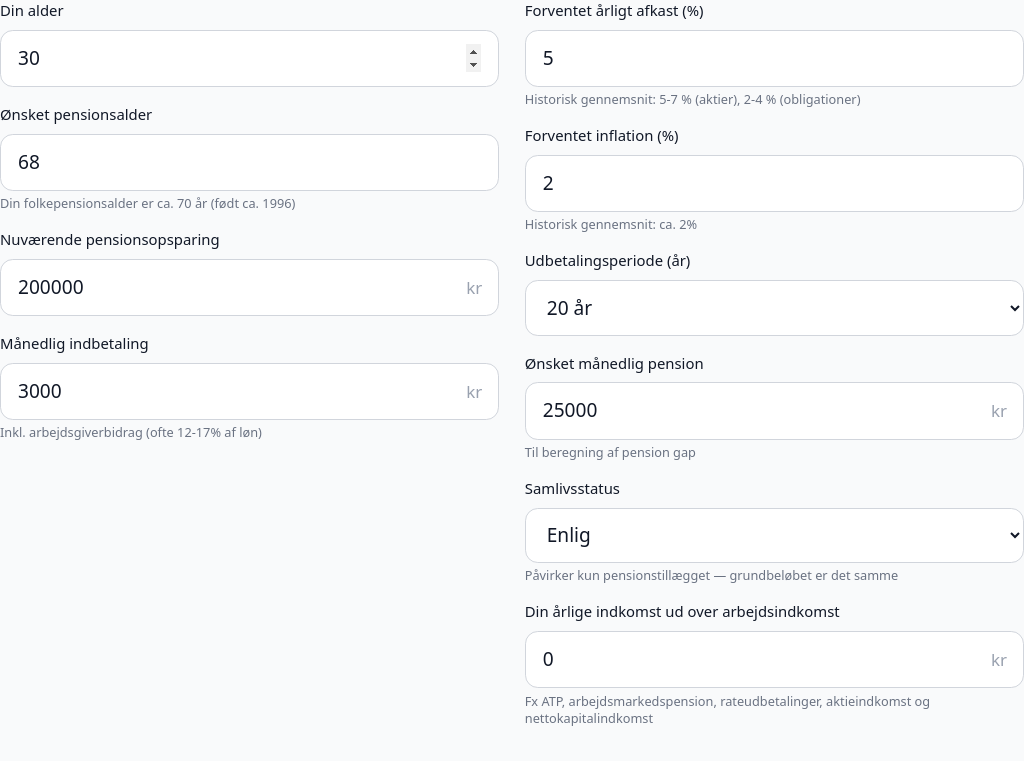
Scenario: PensionBeregner — folkepensionsalder følger fødselsåret, ikke et fast tal › nævner at folkepensionen skal søges for, når alderen er valgt til 70
Replace the text in the number field labelled "Ønsket pensionsalder" with "70": {"x": 250, "y": 162} [0, 134, 499, 191]
(page scrolled)
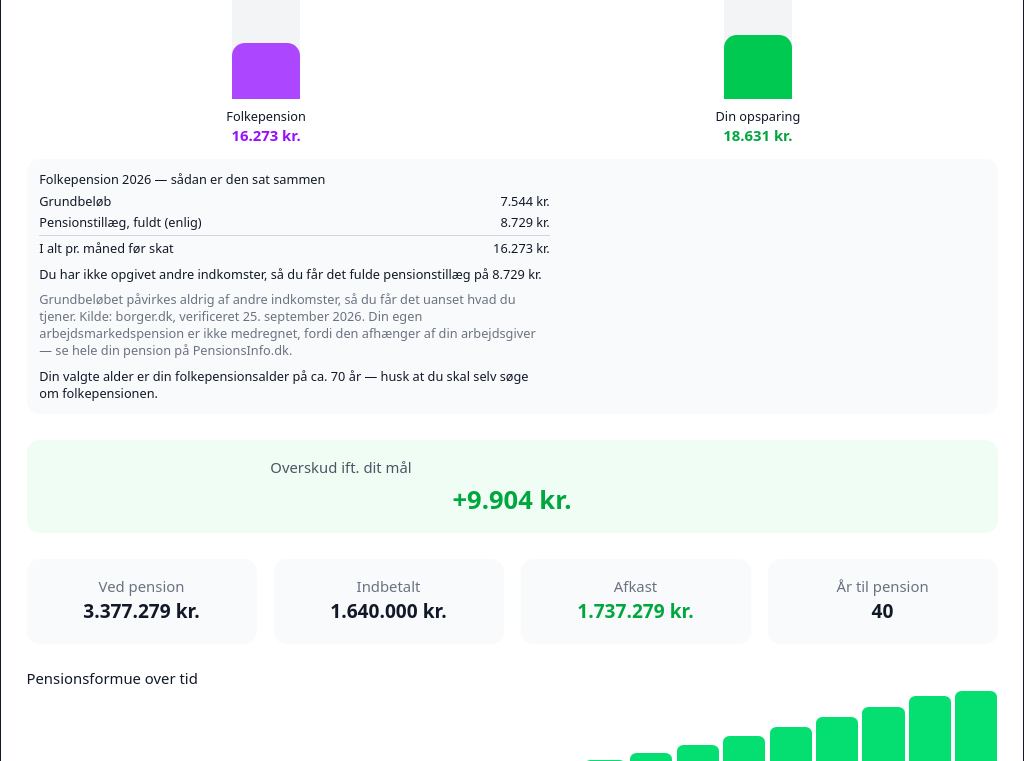
Check: the text "husk at du skal selv søge om folkepensionen" is shown, box [39, 367, 529, 402]
